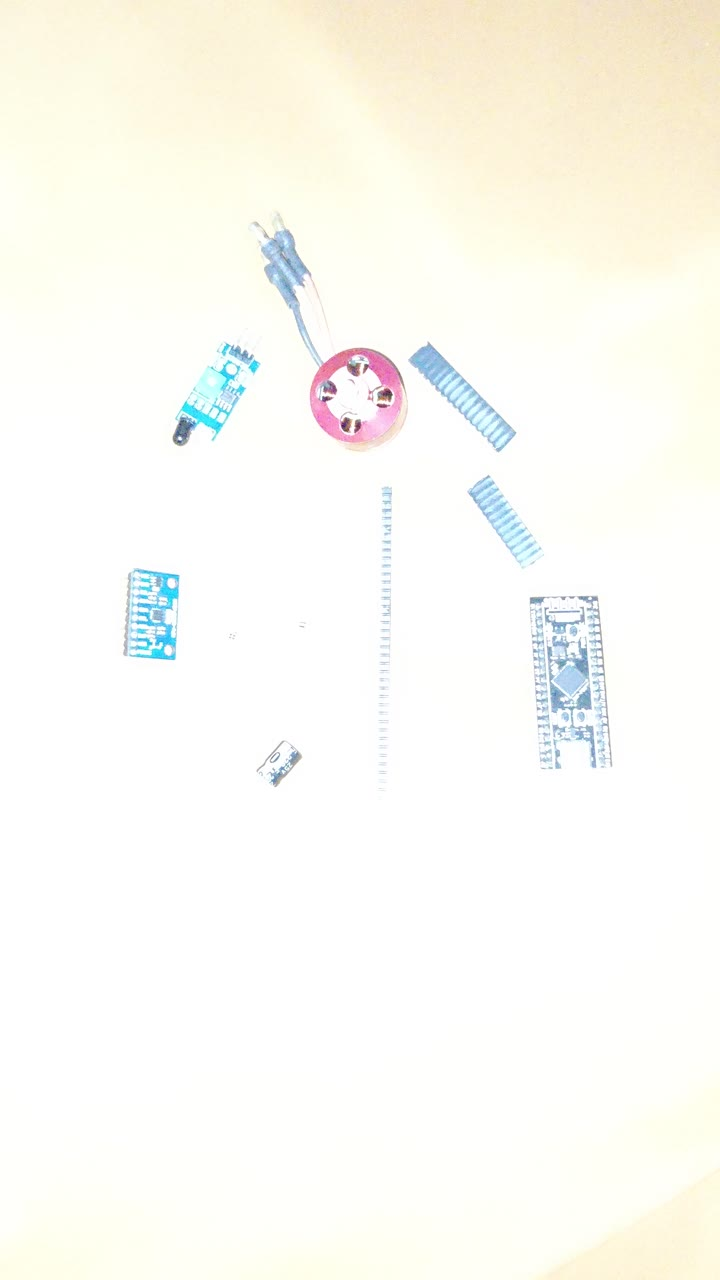bldc_motor: (304, 343, 398, 442)
elco_capacitor: (255, 739, 299, 788)
ir_sensor: (168, 338, 253, 450)
mpu6500: (120, 563, 179, 664)
pin_header: (322, 459, 406, 823), (376, 337, 516, 440), (463, 435, 534, 563)
resistor: (155, 523, 250, 724), (252, 534, 323, 722)
stm32f4: (526, 587, 613, 776)
xt30_female: (392, 579, 477, 664)
